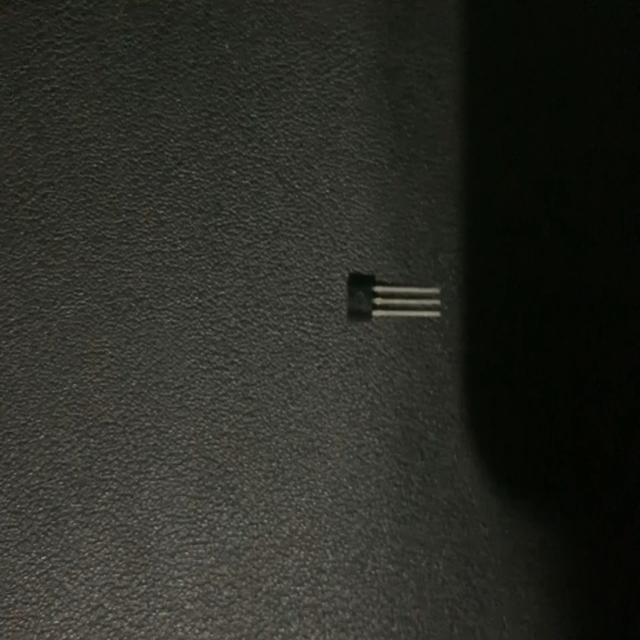BJT: (344, 268, 444, 326)
